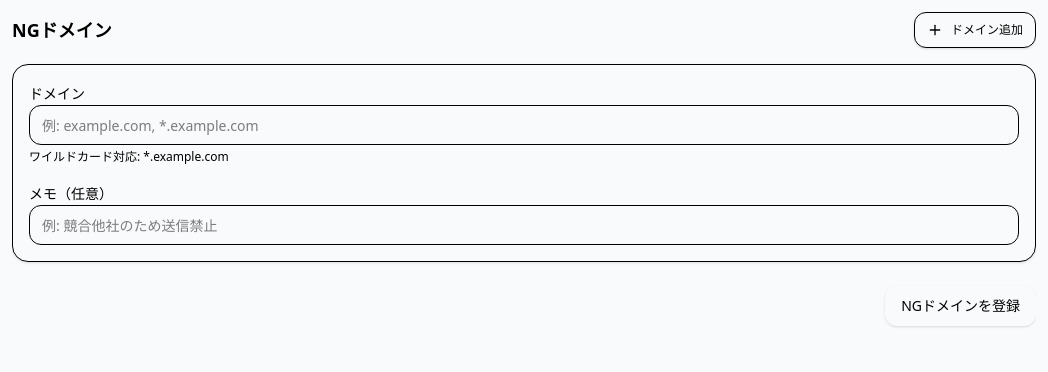
Scenario: NgListDomainForm › バリデーション › 無効なドメイン形式でエラーが表示される
The width and height of the screenshot is (1048, 372).
Type "invalid domain!" into the field labelled "ドメイン". click: [524, 125]
box: [29,105,1019,145]
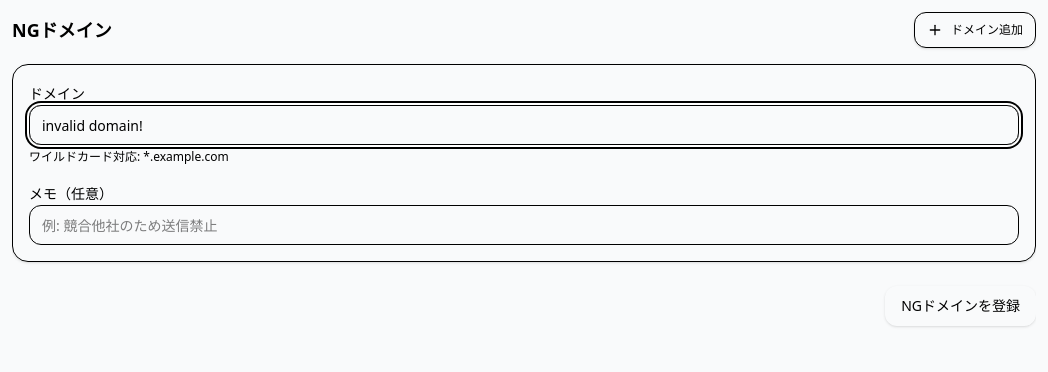
Press Tab
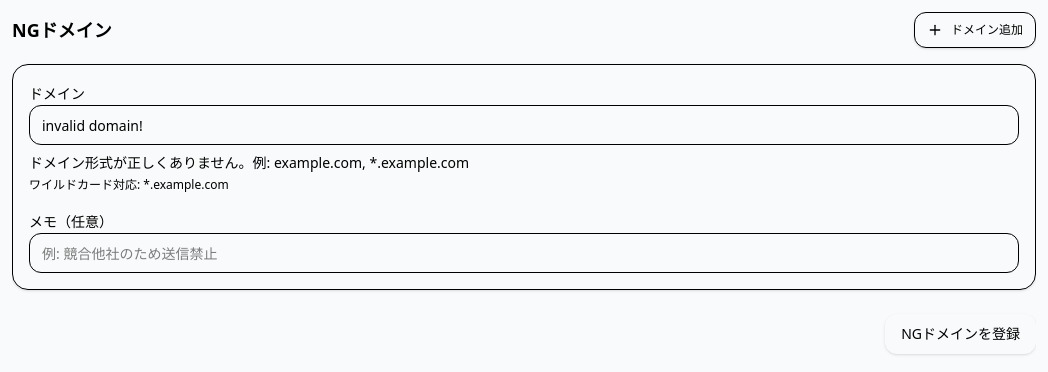
Expected: the text "ドメイン形式が正しくありません。例: example.com, *.example.com" is shown, [29,153,469,172]
